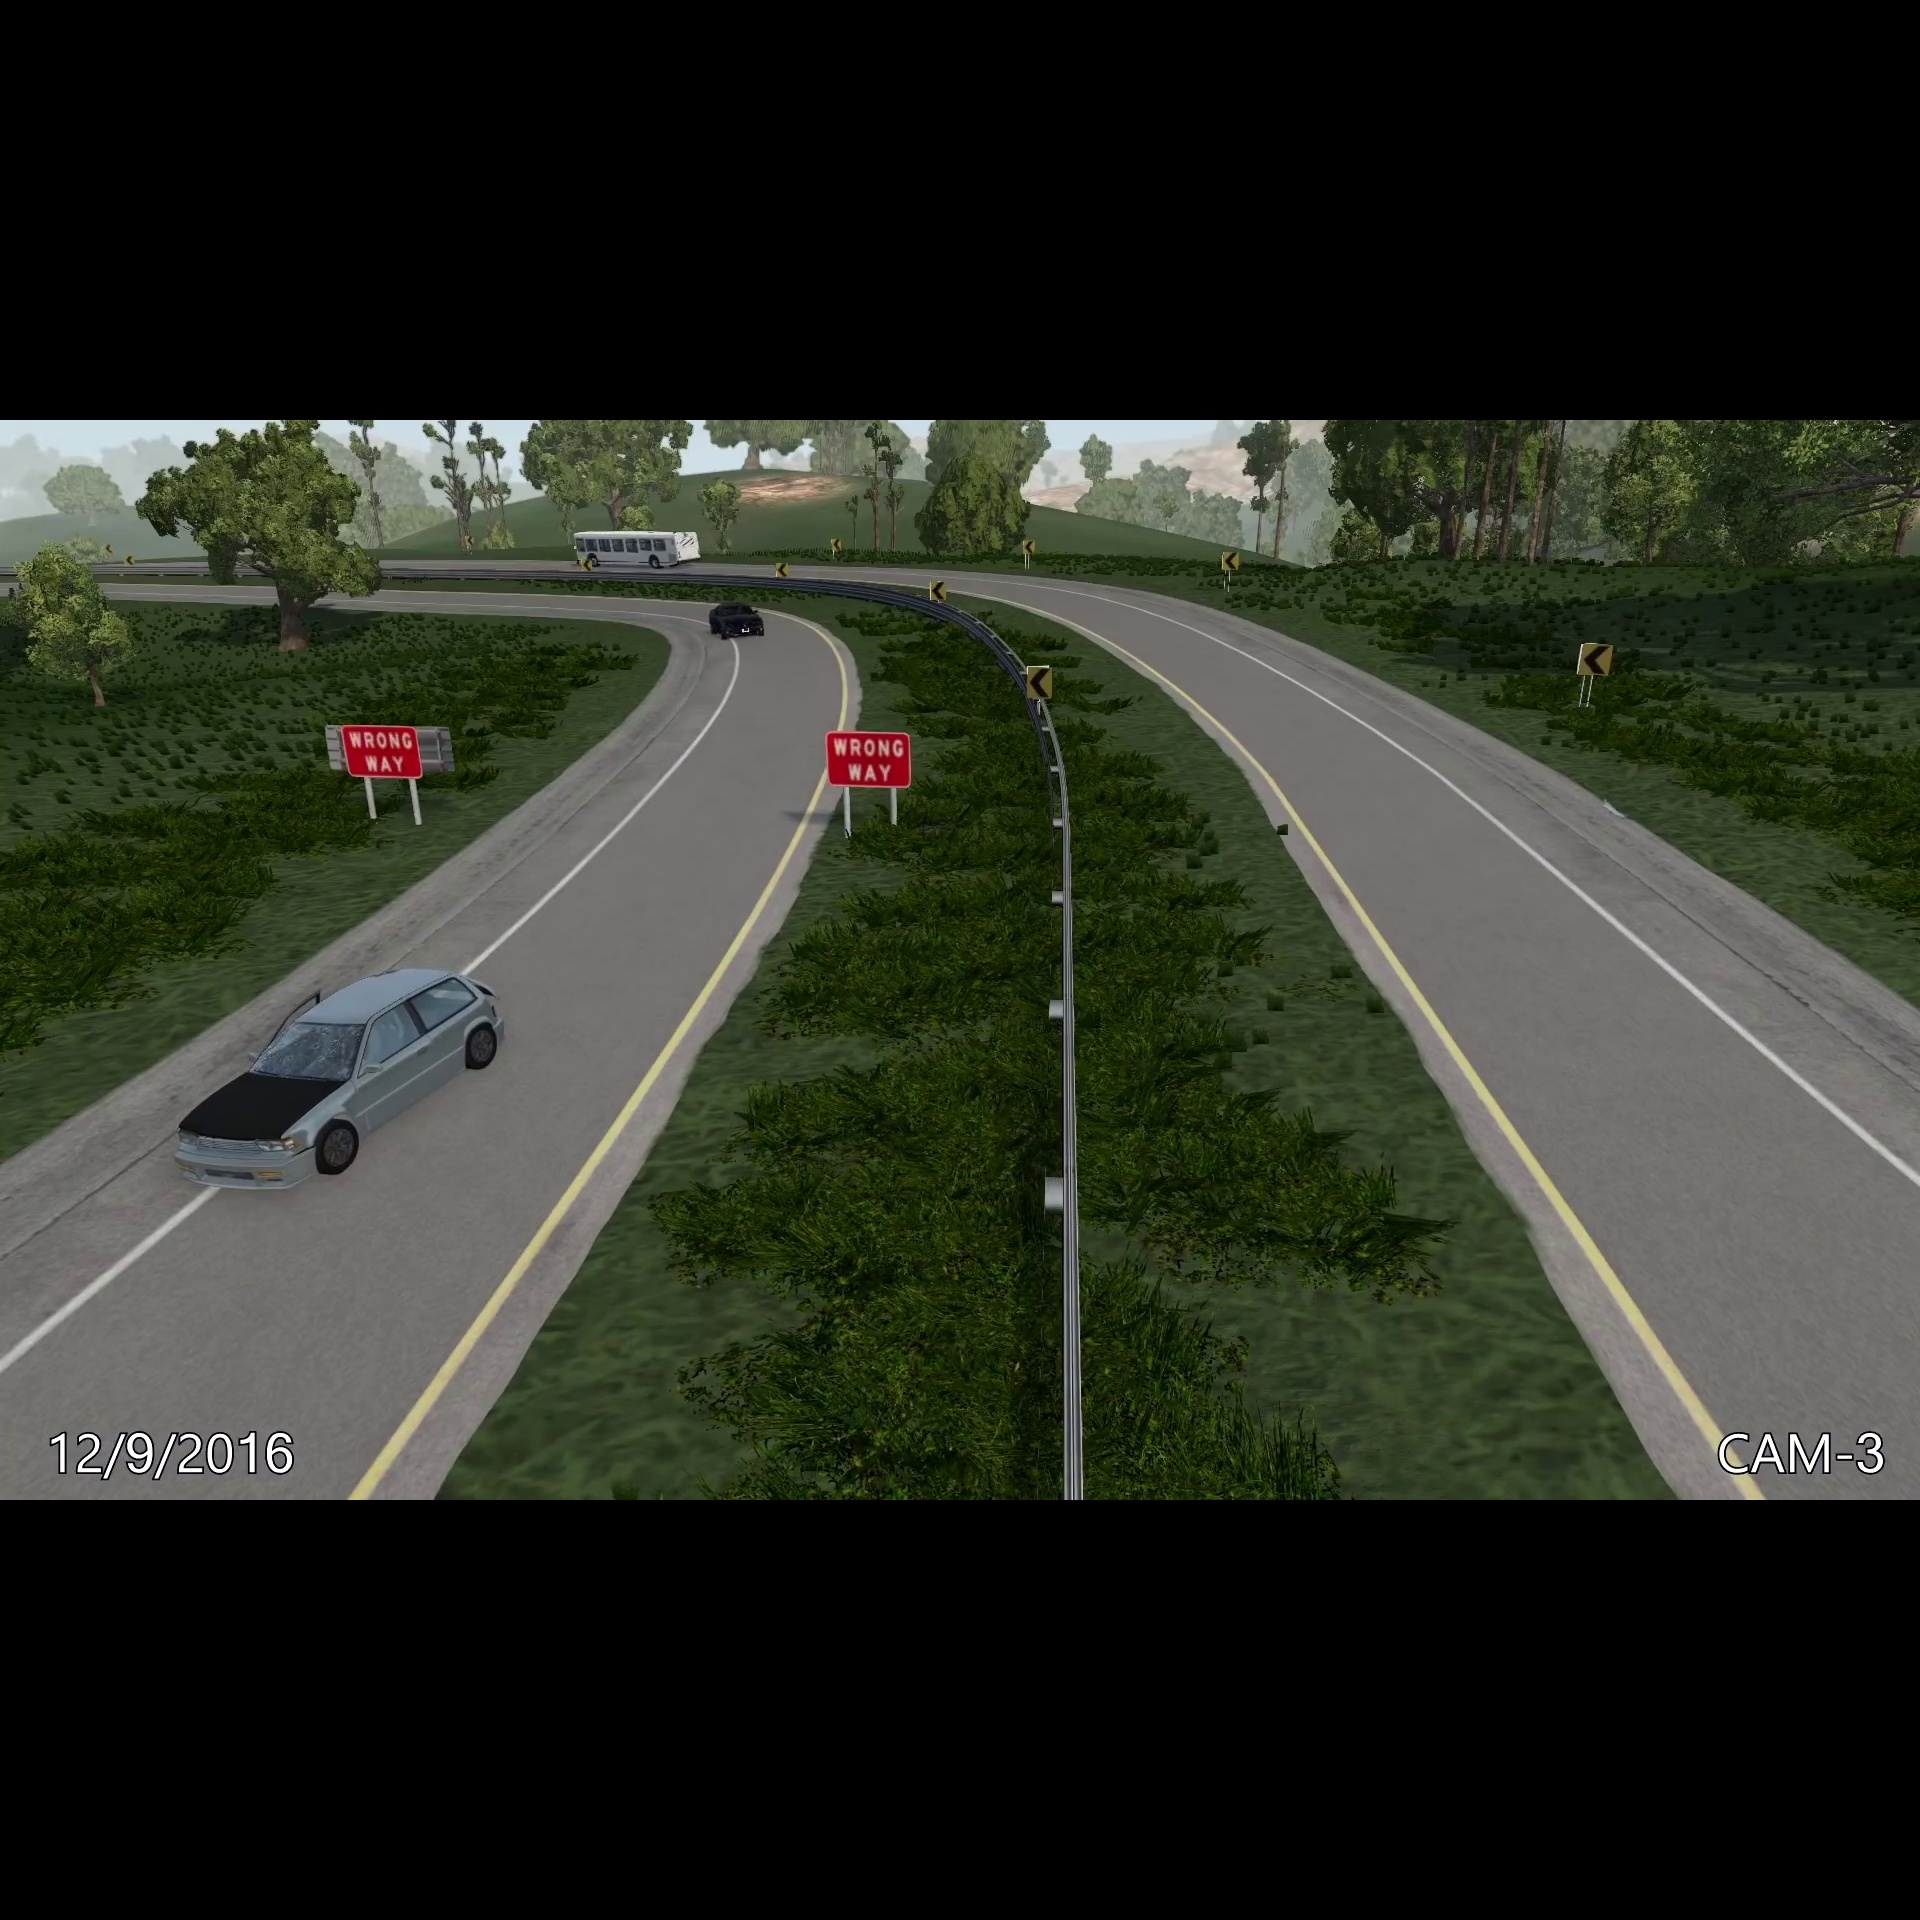vehicle: (164, 956, 520, 1204), (568, 526, 703, 577), (702, 598, 772, 642)
